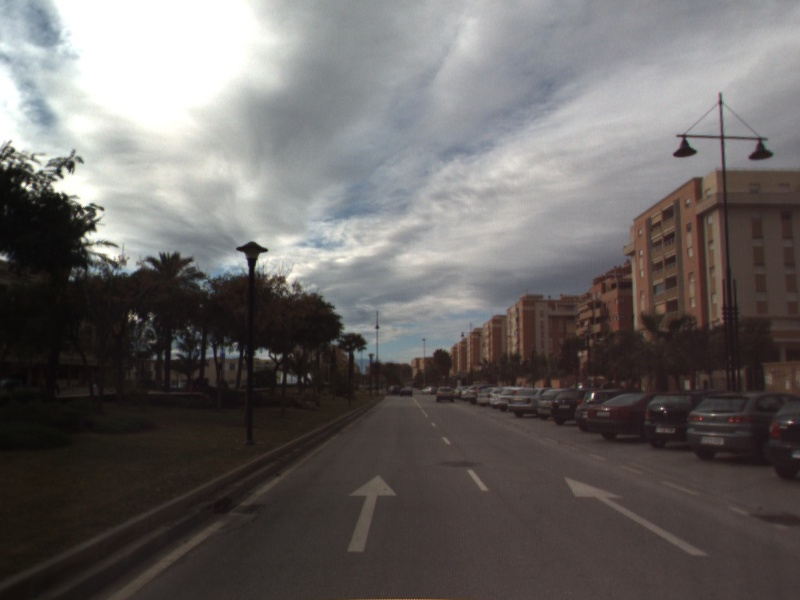STRAIGHT: (563, 475, 709, 557), (345, 473, 399, 554)
